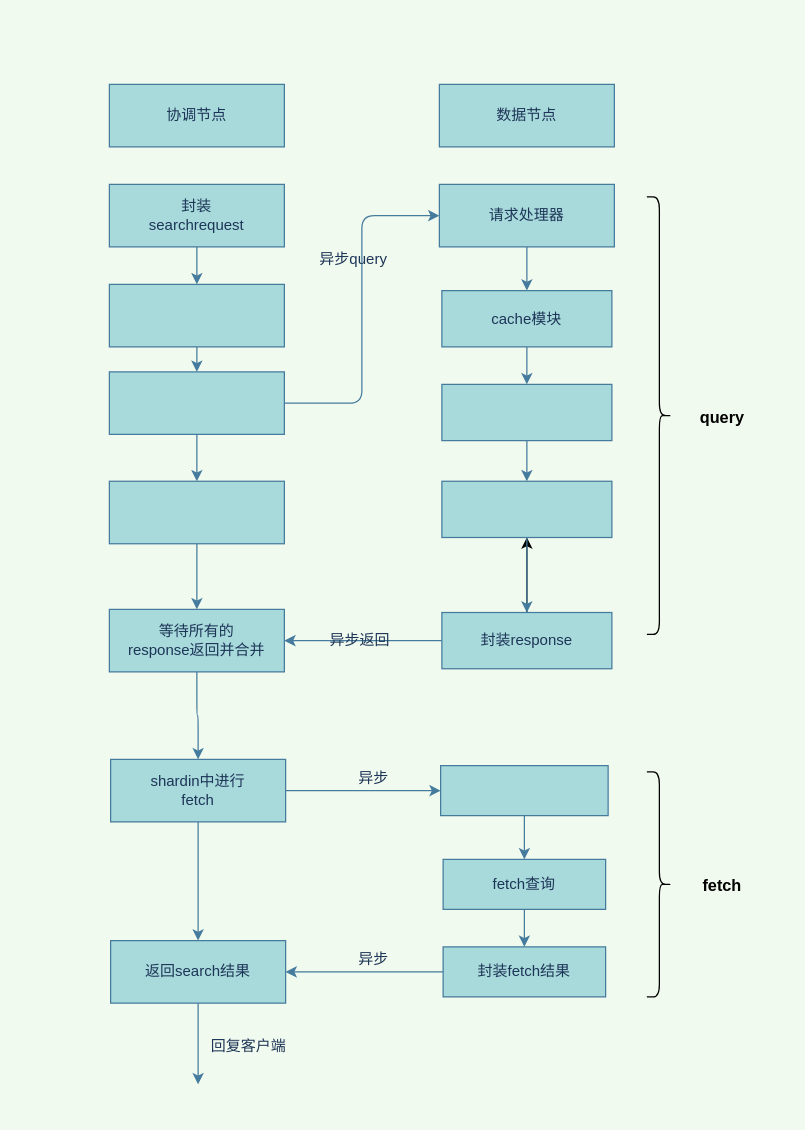
Some shapes in this 805 by 1130 pixel diagram are drawn without their labels. The centre of each missing label's shape, as x and y in pixels:
"fetch请求处理器" belongs at [523,790].
"query response合并" belongs at [196,512].
"一些其它的增强处理" belongs at [526,509].
"根据索引 构建sharding列表请求" belongs at [196,315].
"调用lucene" belongs at [526,412].
"遍历列表并行转发" belongs at [196,402].
